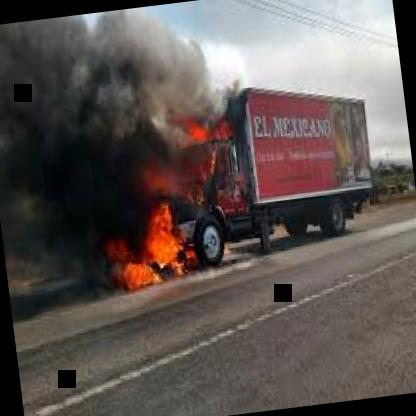fire: (0, 59, 269, 317)
